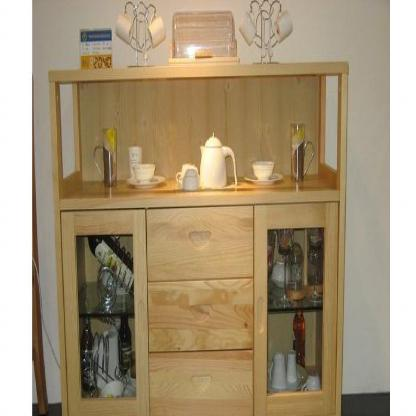Cupboard: (49, 60, 349, 416)
